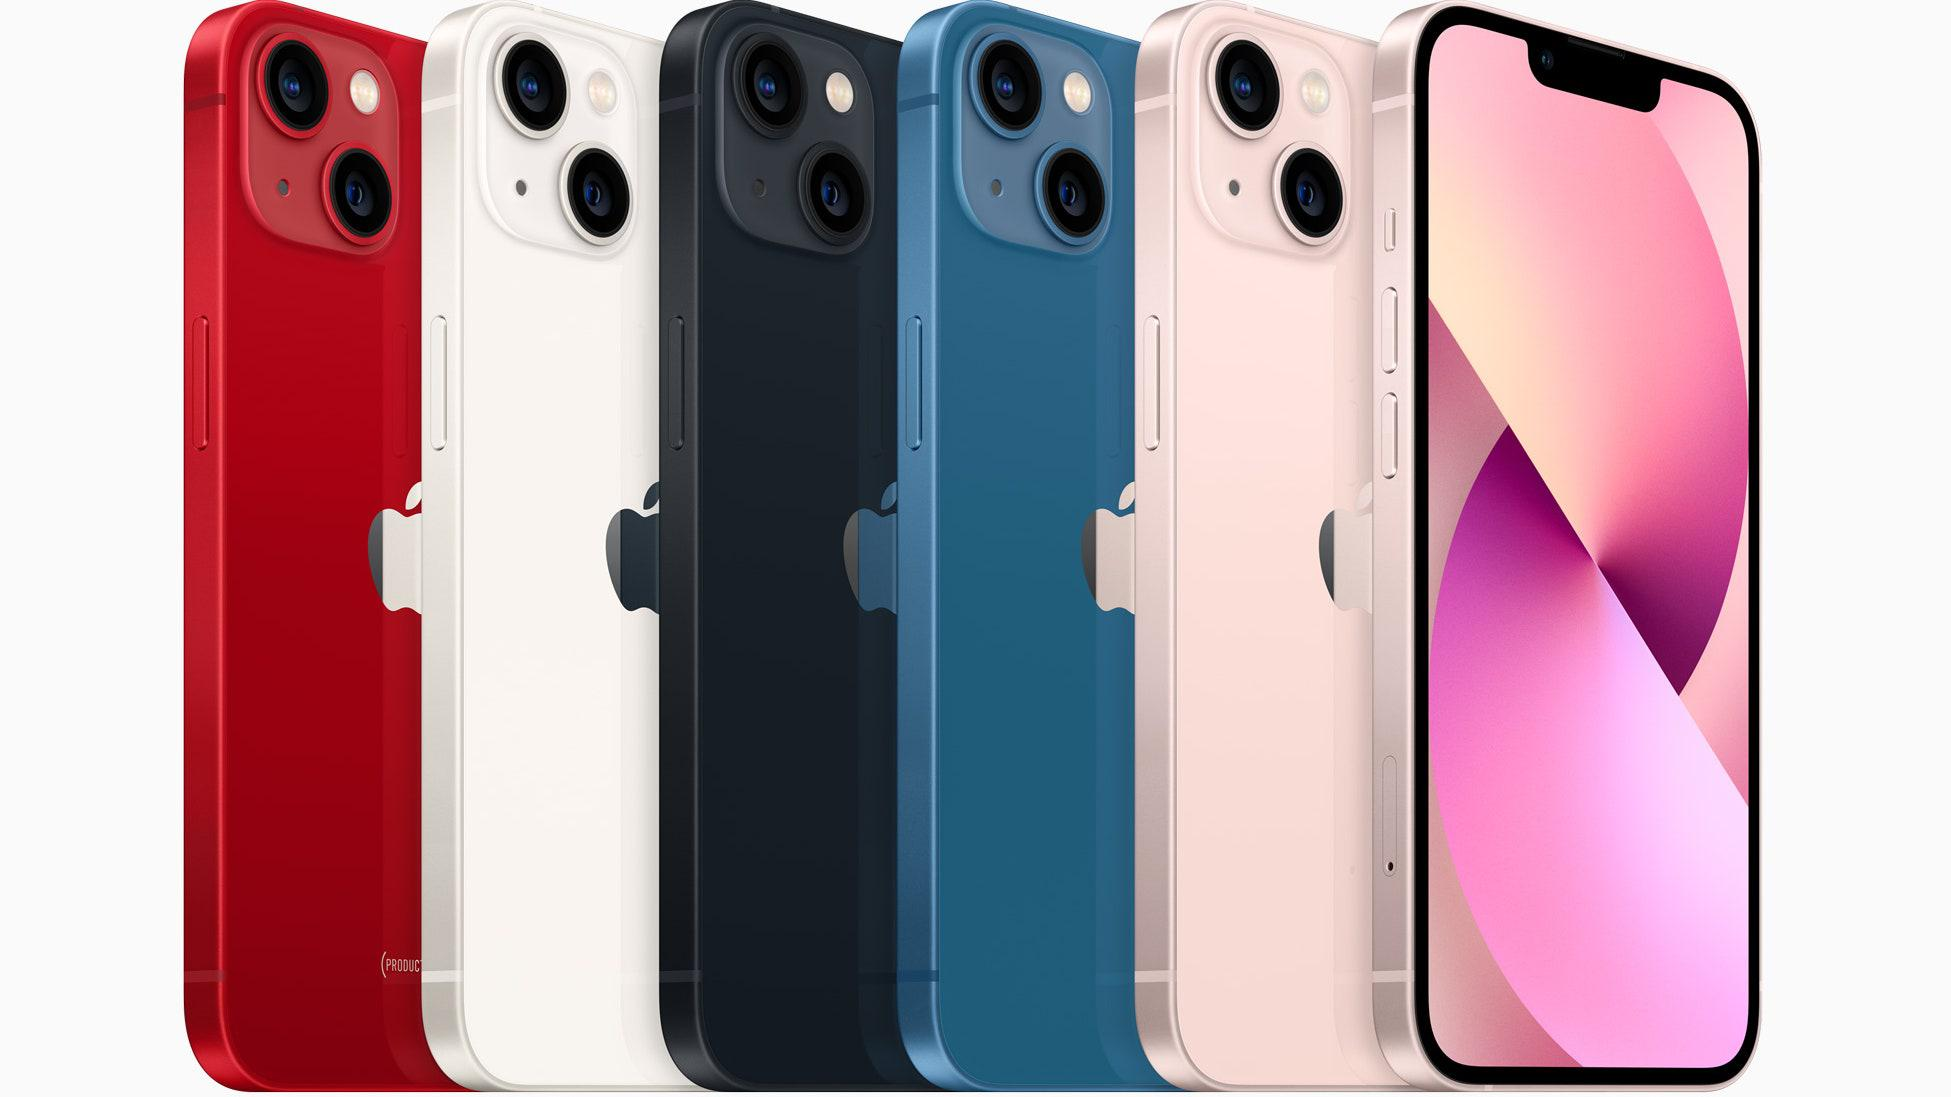Smartphone: (1408, 0, 1779, 1096), (1152, 0, 1390, 1097), (906, 9, 1142, 1077), (198, 7, 423, 1070), (682, 3, 886, 1097), (448, 13, 643, 1097)
